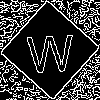W: (25, 25, 75, 74)
